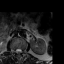CCS_normal: (17, 45, 19, 57)
LFS_normal: (22, 46, 24, 55)
LLS_normal: (19, 46, 22, 55)
RFS_normal: (13, 46, 15, 54)
RLS_normal: (15, 46, 17, 55)
